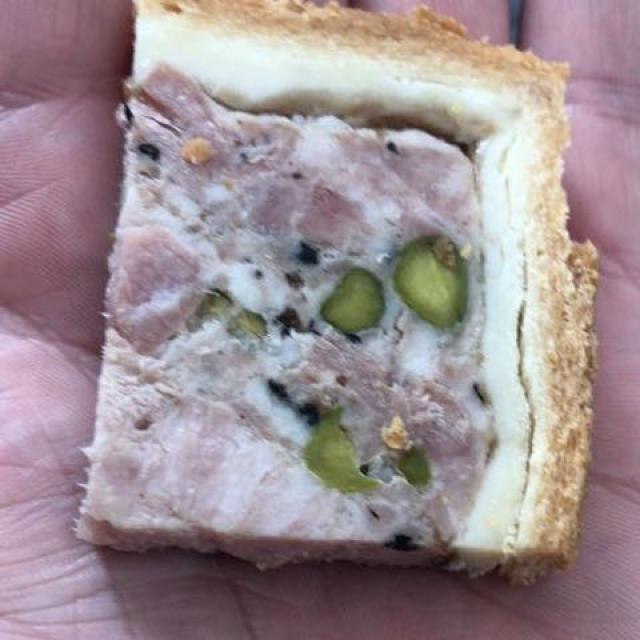meat-terrine-pate: (50, 0, 583, 587), (66, 8, 572, 581), (101, 7, 591, 563)
